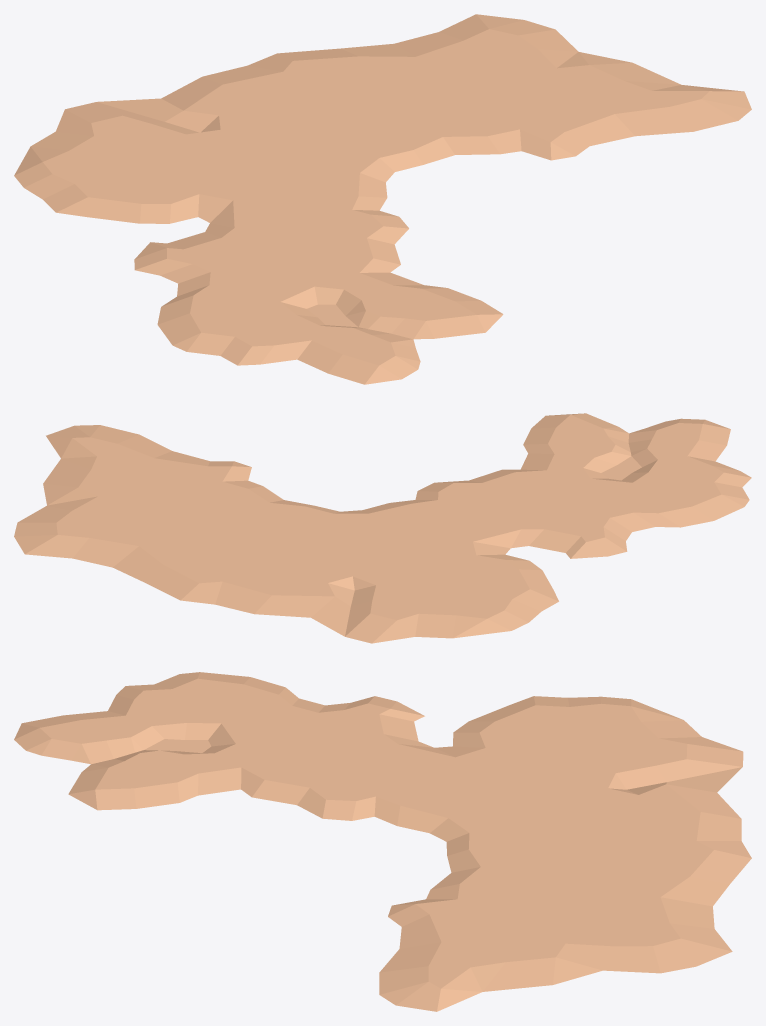
File: tortuga-60.glb
The picture shows the model from 3 angles, top to bottom: view 1: azimuth 30°, elevation 25°; view 2: azimuth 150°, elevation 25°; view 3: azimuth 270°, elevation 25°; orthographic projection. The views are drawn at different scales.
Parts seen in each view (by area): view 1: Cube; view 2: Cube; view 3: Cube.
Part boxes in pixels (x1,y1,x2,y2): Cube: (14, 14, 751, 384); Cube: (14, 413, 751, 643); Cube: (14, 672, 751, 1011).
Bounding box in the file's own units: 573 × 5.5 × 526.
1 material, 1 textured.
